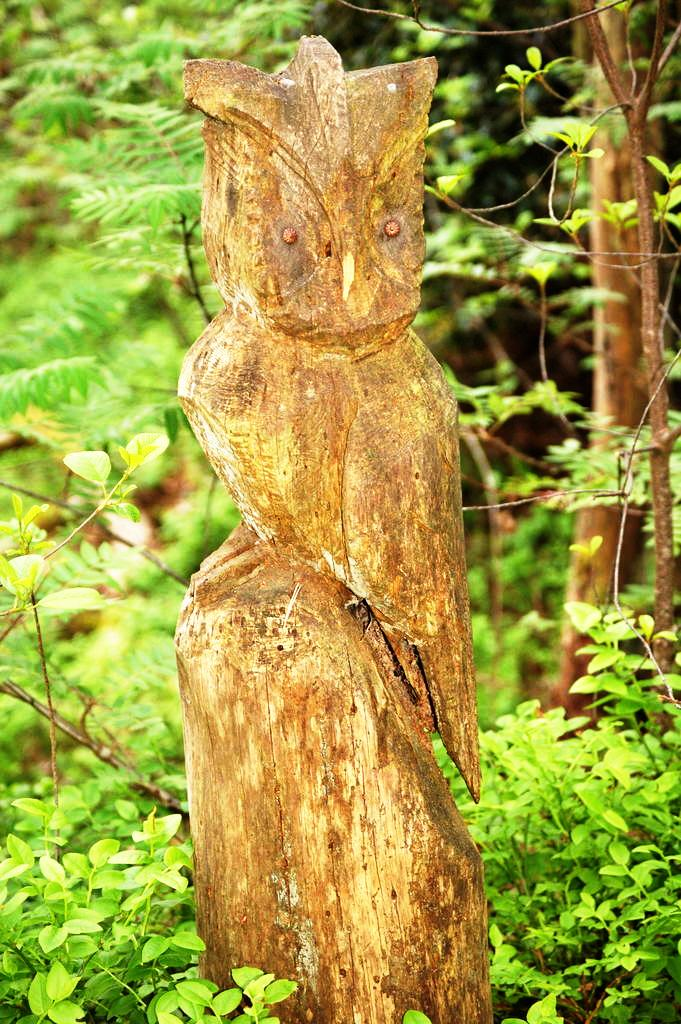Owl: (180, 30, 476, 800)
